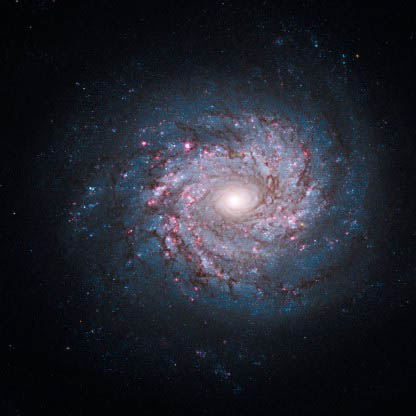NGC 3982: (63, 72, 387, 323)
